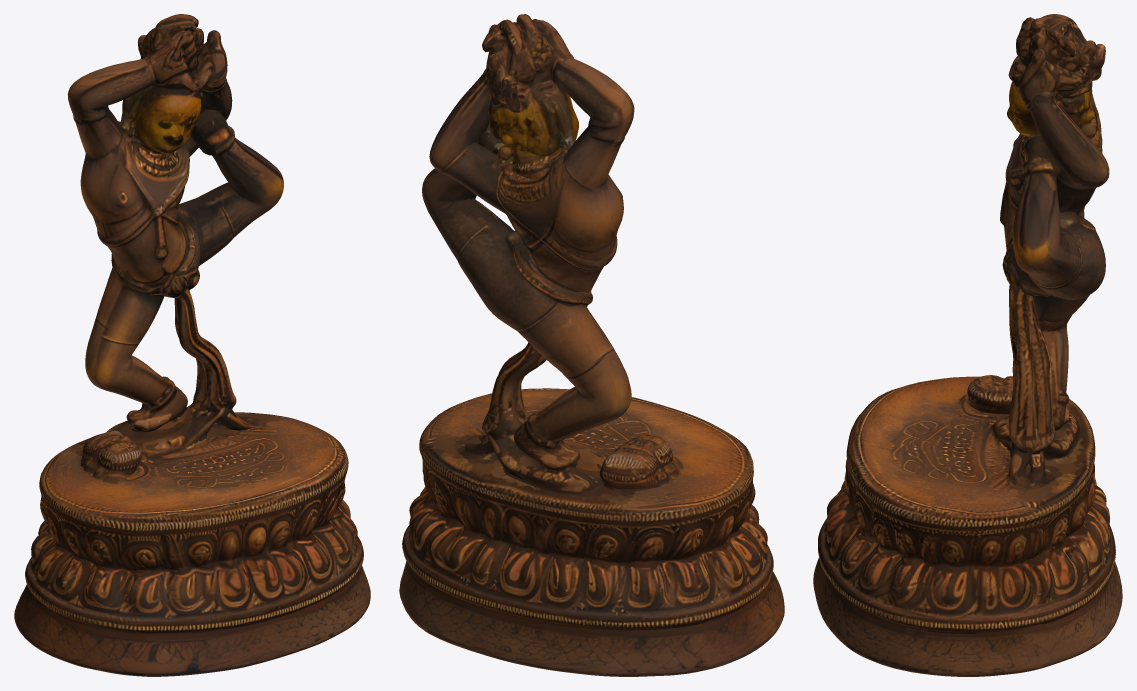
3 renders of one model, left to right at view 1: azimuth 30°, elevation 25°; view 2: azimuth 150°, elevation 25°; view 3: azimuth 270°, elevation 25°, orthographic. The views are drawn at different scales.
Parts seen in each view (by area): view 1: textured_mesh; view 2: textured_mesh; view 3: textured_mesh.
Part boxes in pixels (box(x1,y1,x2,y2)): textured_mesh: box(14, 14, 370, 676); textured_mesh: box(399, 14, 784, 676); textured_mesh: box(813, 14, 1122, 676).
Size of the model in its own units: 1.18 by 1.99 by 0.9397.
1 material, 1 textured.
